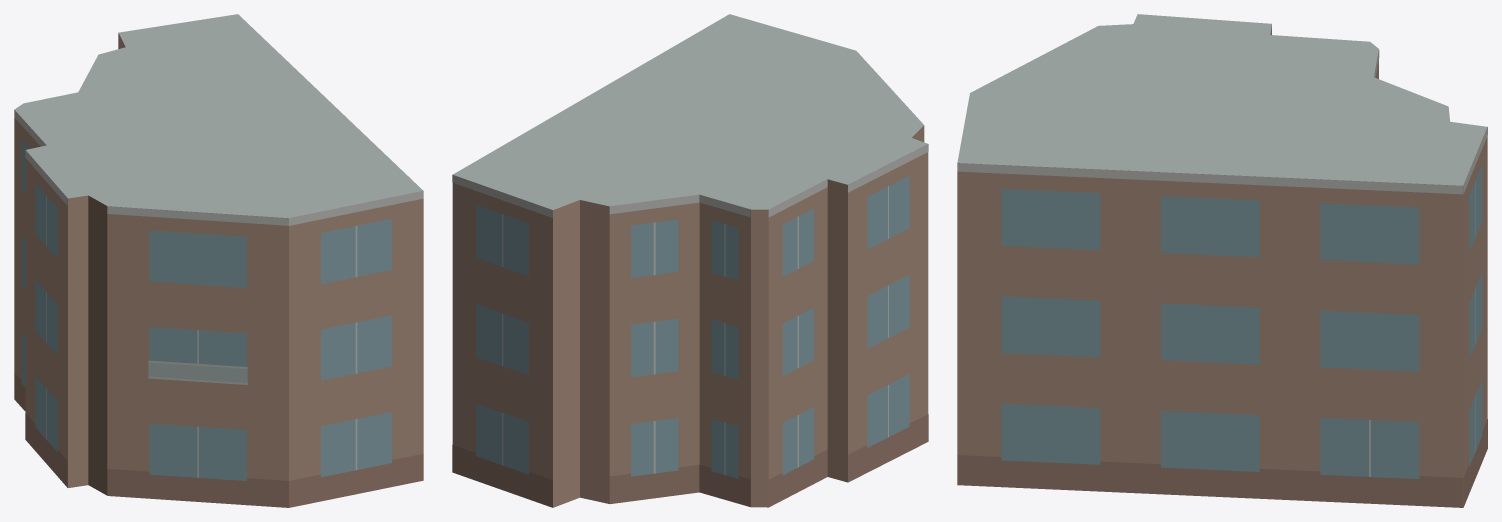
File: survey-upis-32924351.glb
The picture shows the model from 3 angles, left to right: view 1: azimuth 30°, elevation 25°; view 2: azimuth 150°, elevation 25°; view 3: azimuth 270°, elevation 25°; orthographic projection. The views are drawn at different scales.
Visible parts, largest first — view 1: survey-upis-32924351.tmp; view 2: survey-upis-32924351.tmp; view 3: survey-upis-32924351.tmp.
Part boxes in pixels (x1,y1,x2,y2): survey-upis-32924351.tmp: [14, 14, 423, 507]; survey-upis-32924351.tmp: [452, 14, 928, 507]; survey-upis-32924351.tmp: [957, 14, 1487, 507].
Bounding box in the file's own units: 10.48 × 9.15 × 13.66.
